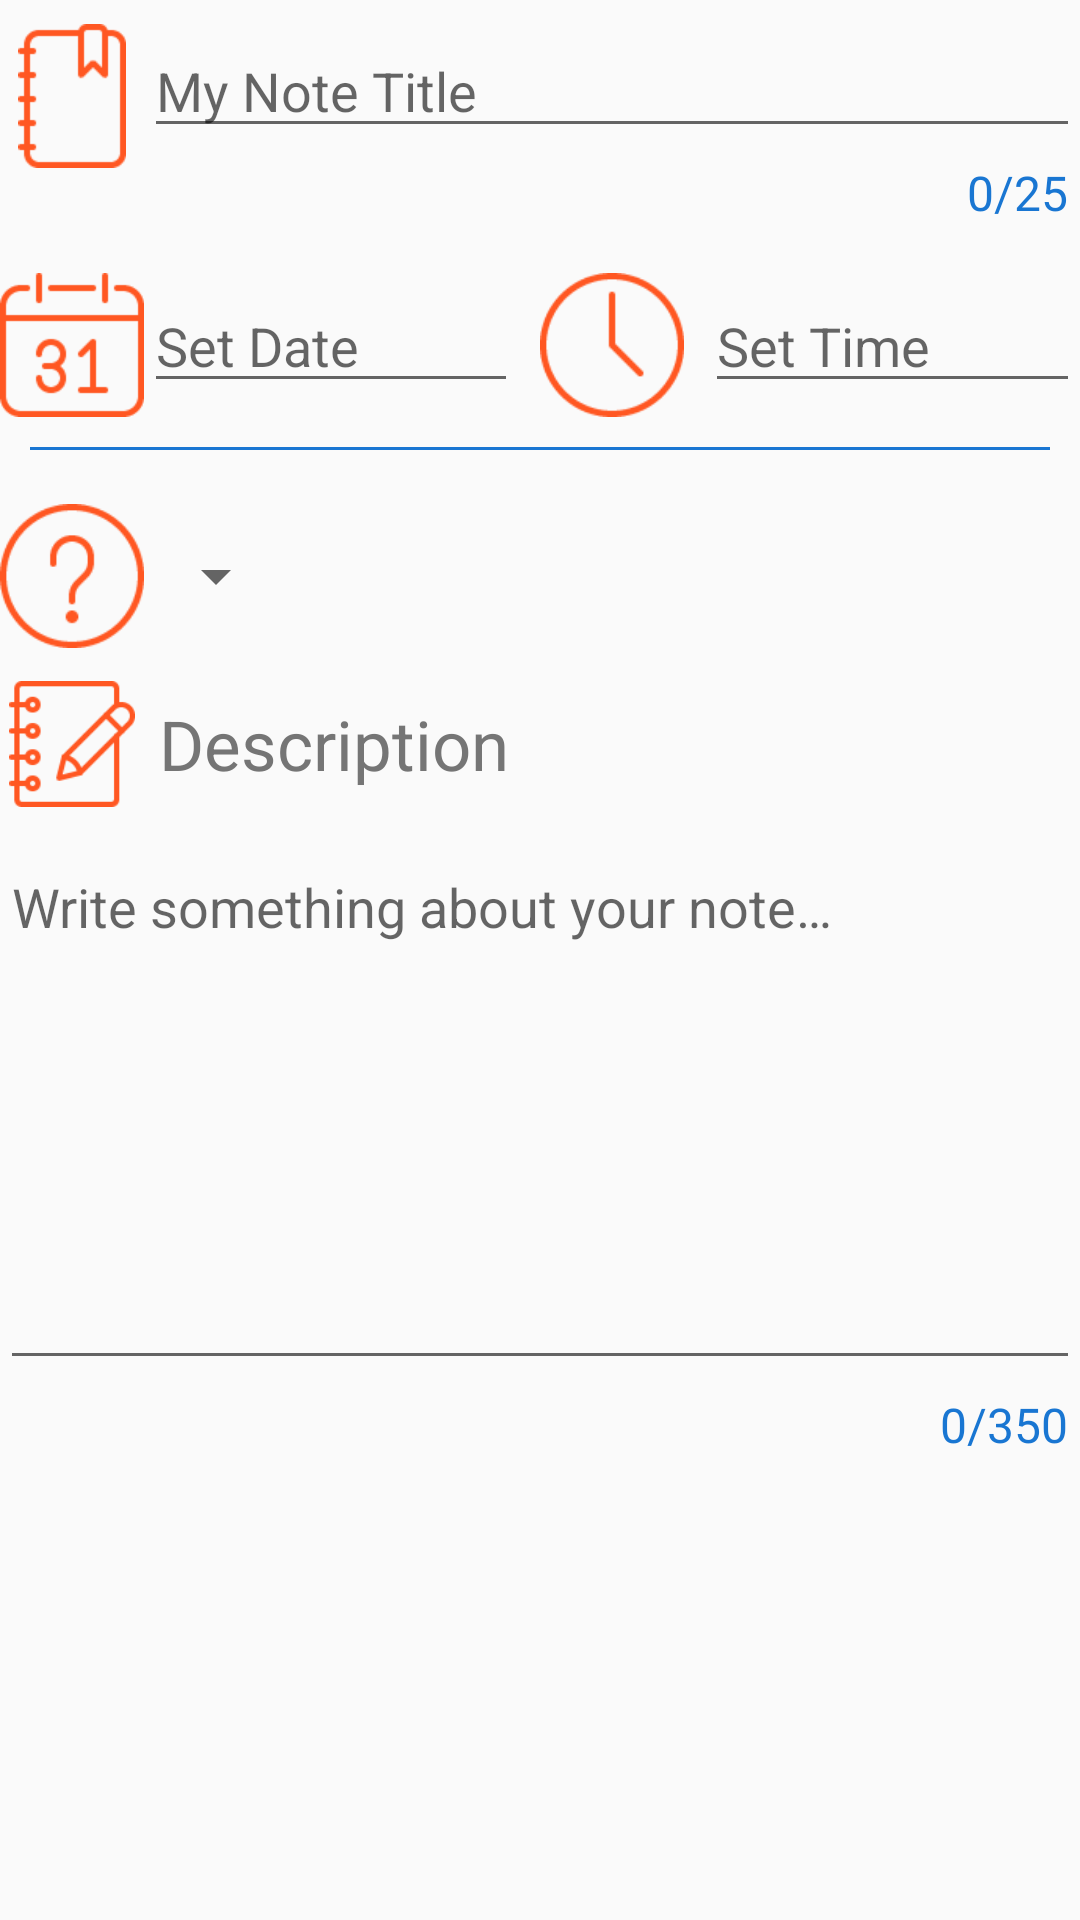

Named icons in this screenshot (1080w x 1920h) and their centers, (x,y):
start date icon: (72,345)
